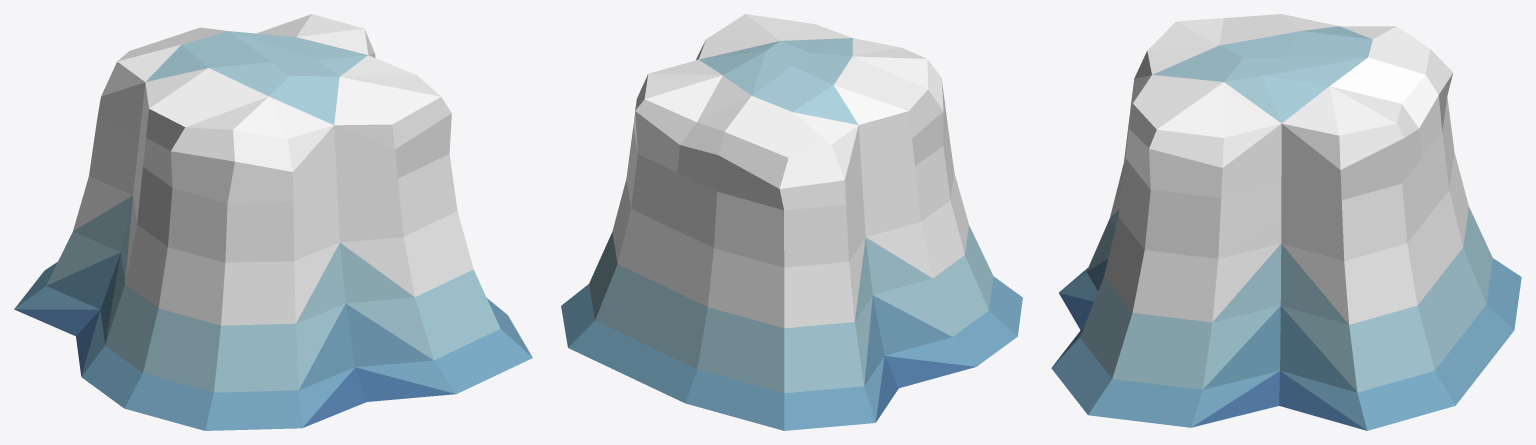
Rendered from terrainCliff1.fbx.
The picture shows the model from 3 angles, left to right: view 1: azimuth 30°, elevation 25°; view 2: azimuth 150°, elevation 25°; view 3: azimuth 270°, elevation 25°; orthographic projection. The views are drawn at different scales.
Parts seen in each view (by area): view 1: bottom, top; view 2: bottom, top; view 3: bottom, top.
Part boxes in pixels (bbox=[...]): bottom: bbox=[14, 53, 532, 430]; top: bbox=[101, 14, 457, 246]; bottom: bbox=[561, 59, 1022, 430]; top: bbox=[635, 14, 950, 238]; bottom: bbox=[1051, 73, 1521, 430]; top: bbox=[1122, 14, 1453, 258].
Bounding box in the file's own units: 600 × 394 × 612.
2 materials, 2 textured.
